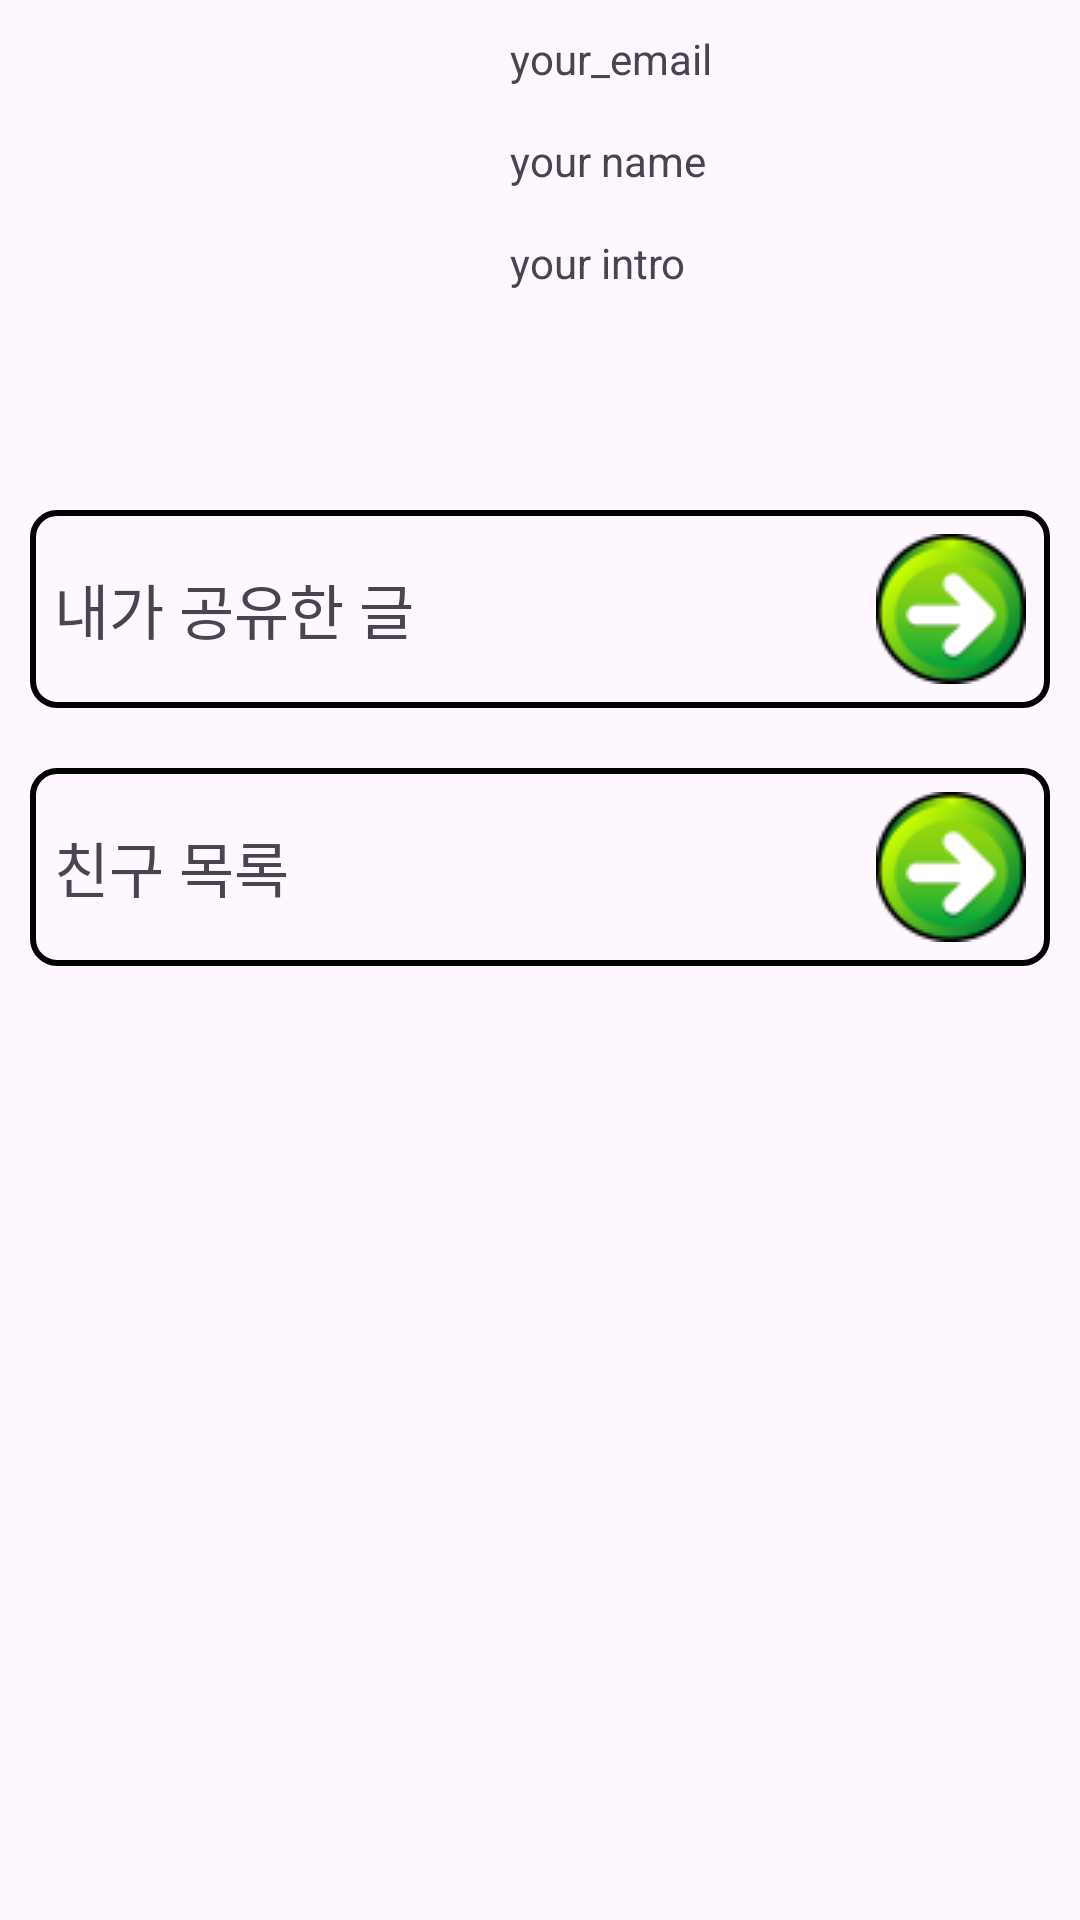

Screen size 1080 × 1920. Icon name, then its center in pixels as [x,y]:
next: [951,609], [951,867]
